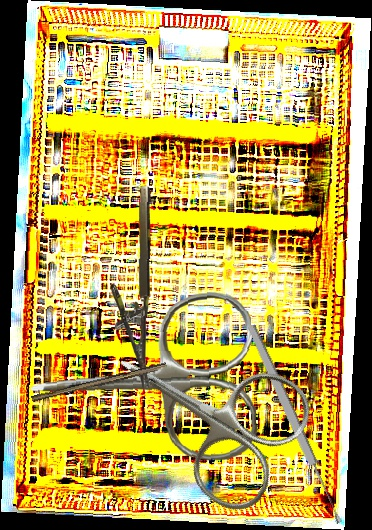Iris Scissors: (83, 298, 323, 523), (26, 290, 259, 471)
Needle Holder: (109, 185, 153, 390)
Scalpel Handle: (31, 360, 168, 406)
Surgical Spoon: (245, 323, 345, 526)
